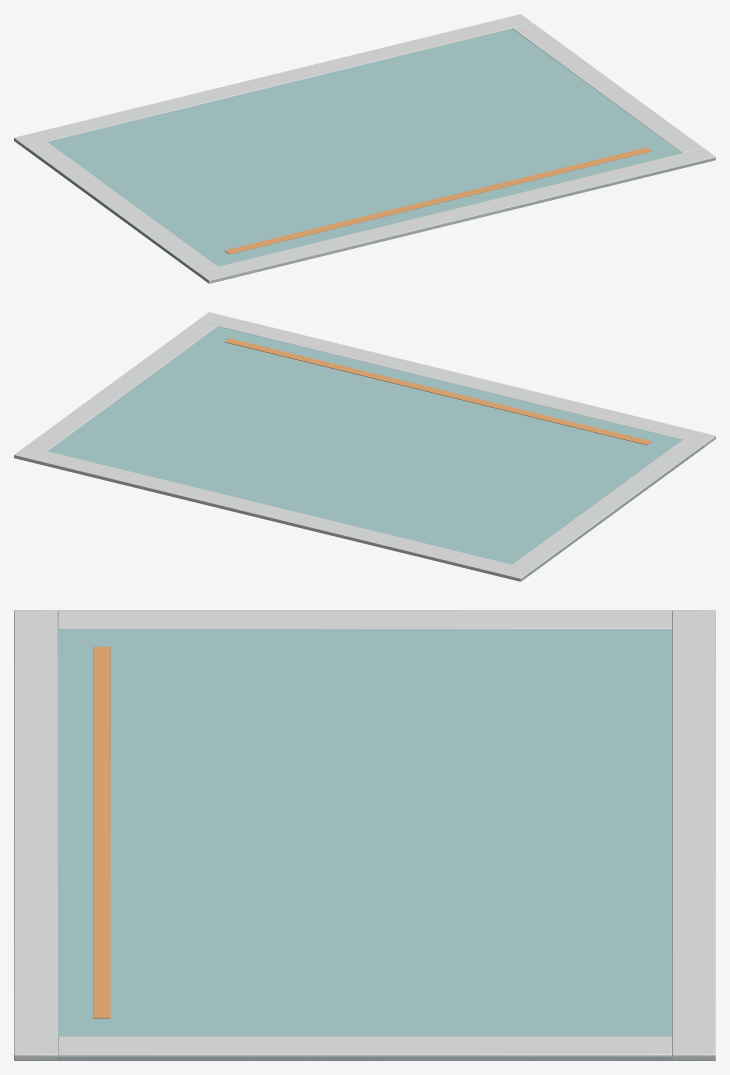
The model's file is floor_rug.glb.
The picture shows the model from 3 angles, top to bottom: view 1: azimuth 30°, elevation 25°; view 2: azimuth 150°, elevation 25°; view 3: azimuth 270°, elevation 25°; orthographic projection. The views are drawn at different scales.
Visible parts, largest first — view 1: rug_teal_soft, border_warm_panel, stripe_orange; view 2: rug_teal_soft, border_warm_panel, stripe_orange; view 3: rug_teal_soft, border_warm_panel, stripe_orange.
Part boxes in pixels (<box>): rug_teal_soft: <box>25,28,715,282</box>; border_warm_panel: <box>14,14,715,283</box>; stripe_orange: <box>224,147,651,254</box>; rug_teal_soft: <box>48,326,704,580</box>; border_warm_panel: <box>14,312,715,581</box>; stripe_orange: <box>225,338,651,445</box>; rug_teal_soft: <box>16,629,714,1060</box>; border_warm_panel: <box>14,610,715,1060</box>; stripe_orange: <box>93,646,110,1018</box>.
Bounding box in the file's own units: 2.4 × 0.017 × 1.6.
